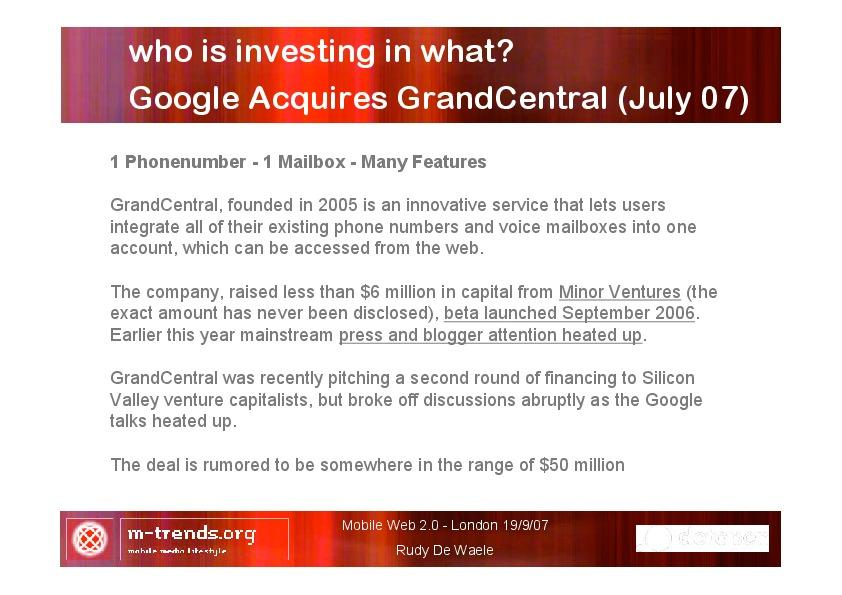paragraph: (103, 190, 747, 481)
subtitle: (103, 146, 491, 177)
title: (125, 37, 763, 114)
